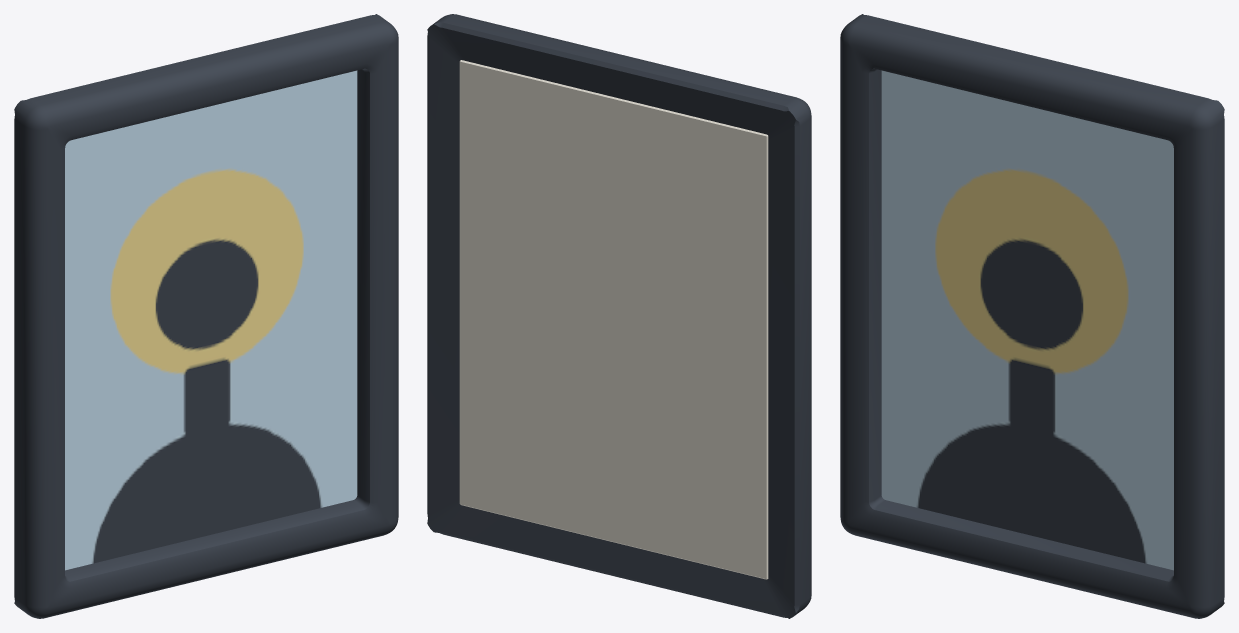
The model's file is quadro_silhueta.glb.
3 renders of one model, left to right at view 1: azimuth 30°, elevation 25°; view 2: azimuth 150°, elevation 25°; view 3: azimuth 330°, elevation 25°, orthographic.
Visible parts, largest first — view 1: quadro_silhueta; view 2: quadro_silhueta; view 3: quadro_silhueta.
Boxes of the visible parts, left/top/right/bottom form: quadro_silhueta: left=14, top=14, right=398, bottom=618; quadro_silhueta: left=427, top=14, right=811, bottom=618; quadro_silhueta: left=840, top=14, right=1224, bottom=618.
Bounding box in the file's own units: 0.372 × 0.4887 × 0.035.
Materials: 2 (2 with a texture image).
